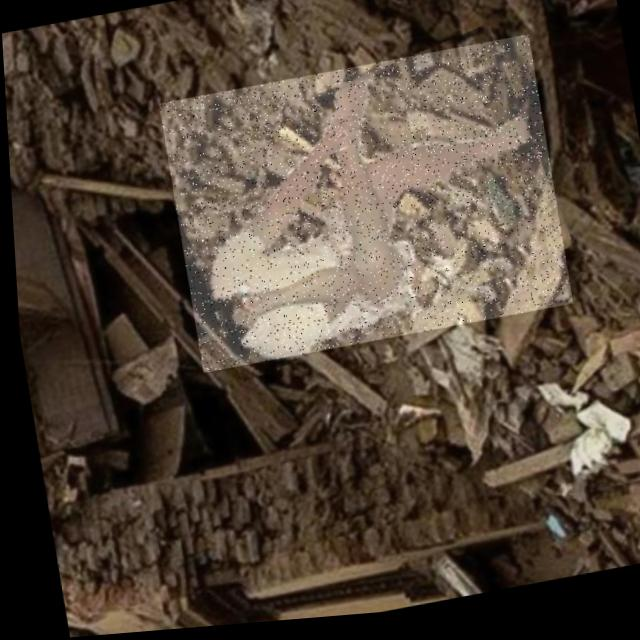Person in Rubble: (155, 40, 570, 376)
